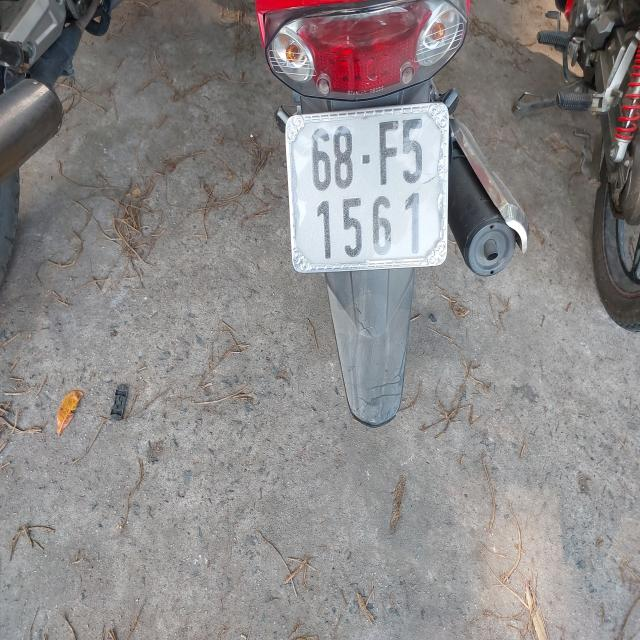1: (312, 199, 333, 260), (403, 190, 421, 254)
5: (401, 118, 424, 190), (340, 195, 365, 260)
6: (309, 126, 333, 195), (370, 194, 392, 257)
8: (332, 126, 354, 195)
F: (376, 119, 399, 190)
